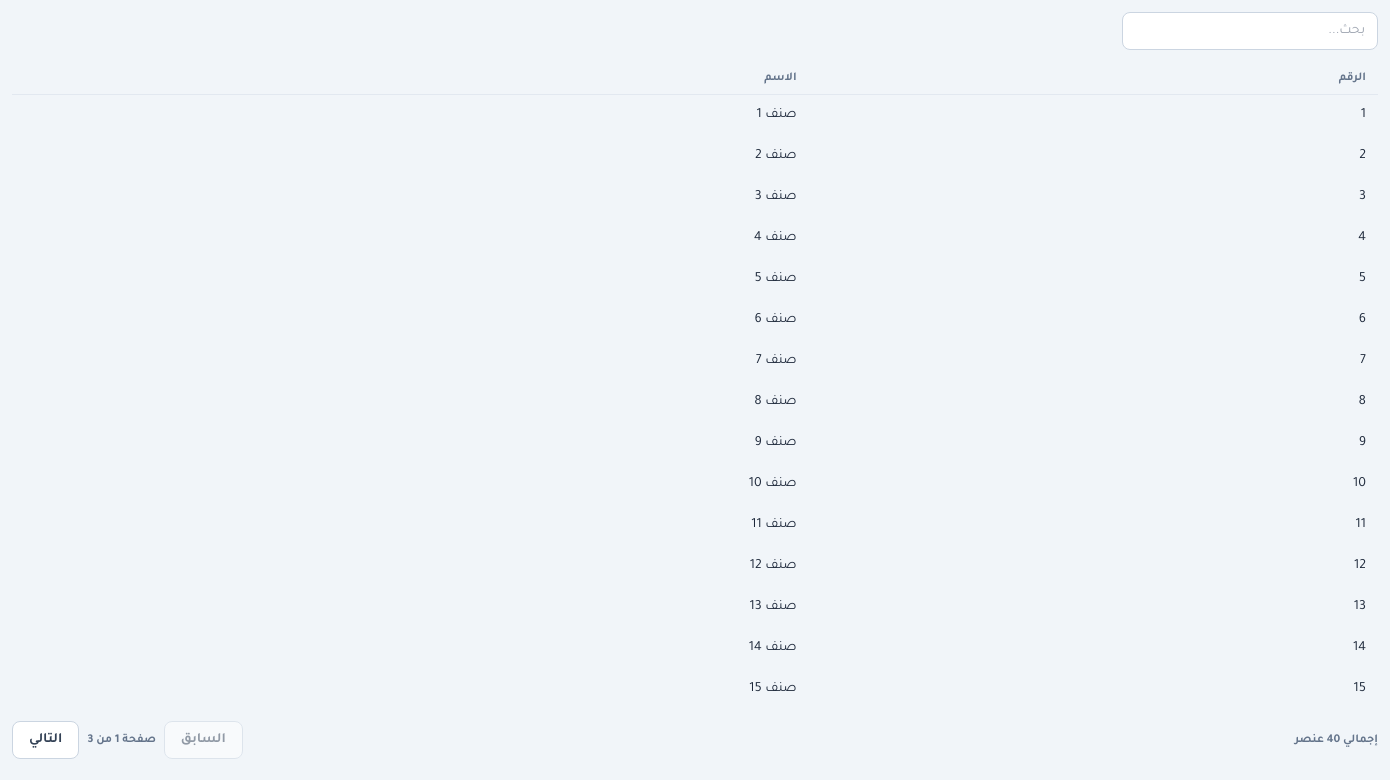
Test: client mode still works › slices, searches and sorts locally when given the whole list
Expected: the text "إجمالي 40 عنصر" is shown, [1295,732,1378,748]
Expected: the text "صفحة 1 من 3" is shown, [87,732,156,748]
Type "صنف 7" into the field with placeholder "بحث...". click: (1250, 31)
box: [1122,12,1378,50]
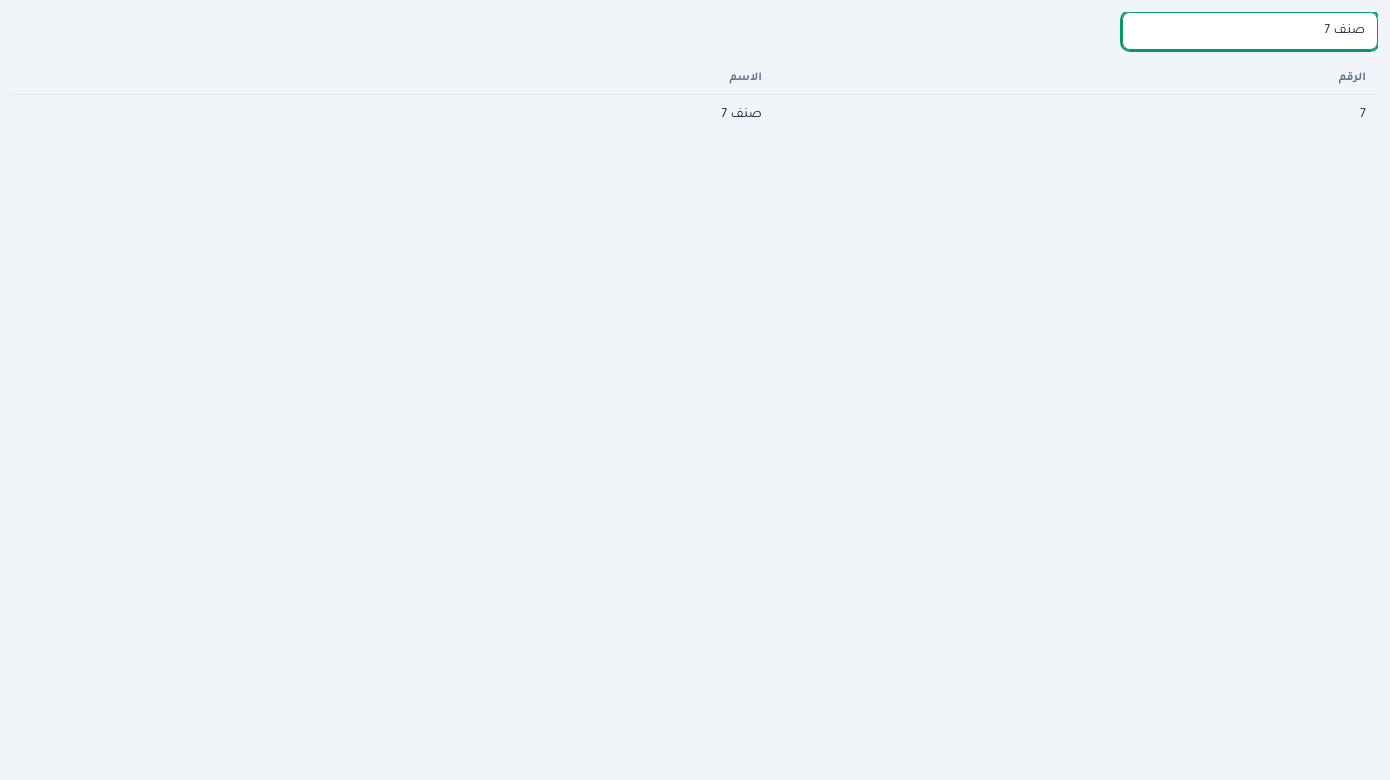
Expected: the text "صنف 7" is shown, [12,94,774,135]
Now the text "صنف 8" is gone
